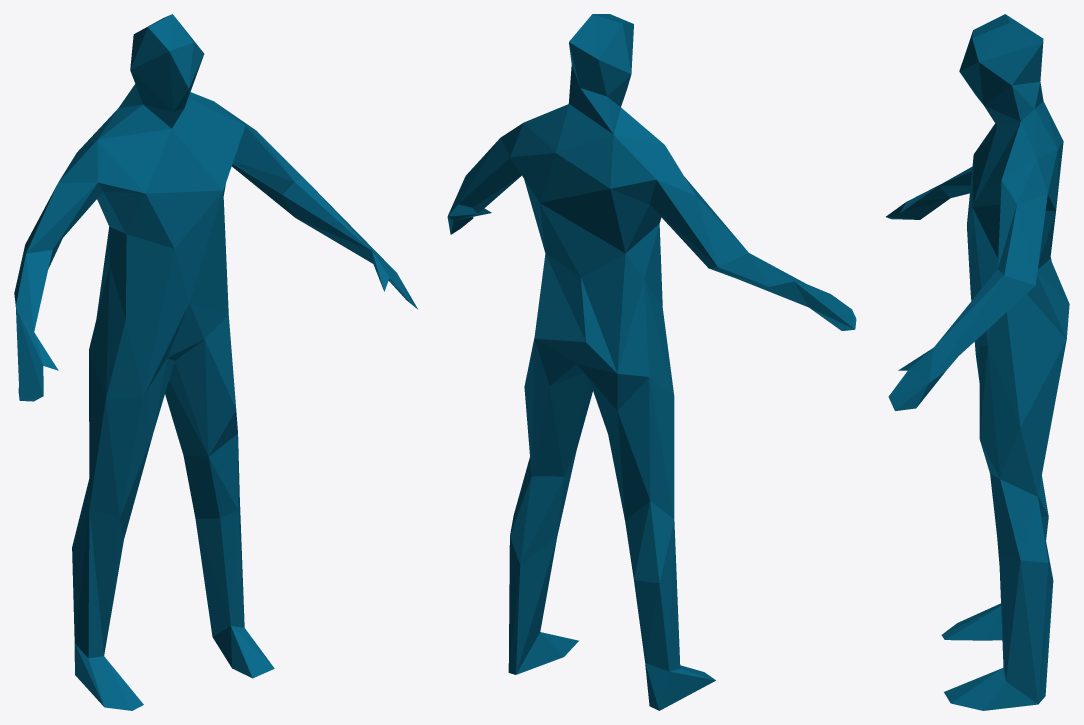
Rendered from Neo2.fbx.
3 renders of one model, left to right at view 1: azimuth 30°, elevation 25°; view 2: azimuth 150°, elevation 25°; view 3: azimuth 270°, elevation 25°, orthographic. The views are drawn at different scales.
Visible parts, largest first — view 1: Body; view 2: Body; view 3: Body.
Boxes of the visible parts, x1,y1,x2,y2 form: Body: [14, 14, 417, 710]; Body: [447, 14, 856, 710]; Body: [886, 14, 1069, 710].
Bounding box in the file's own units: 113 × 180 × 46.19.
